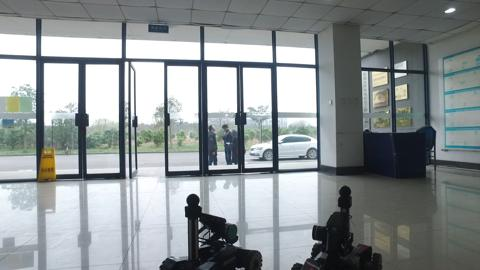chariot: (158, 191, 264, 269), (288, 183, 383, 269)
